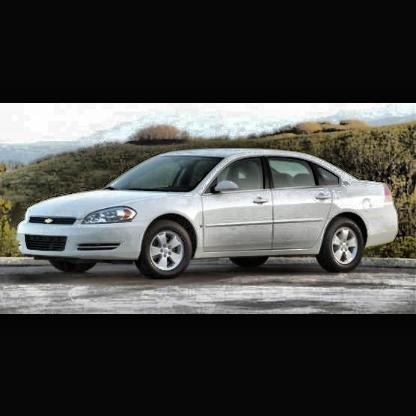Chevrolet Impala Sedan 2007: (17, 148, 401, 281)
